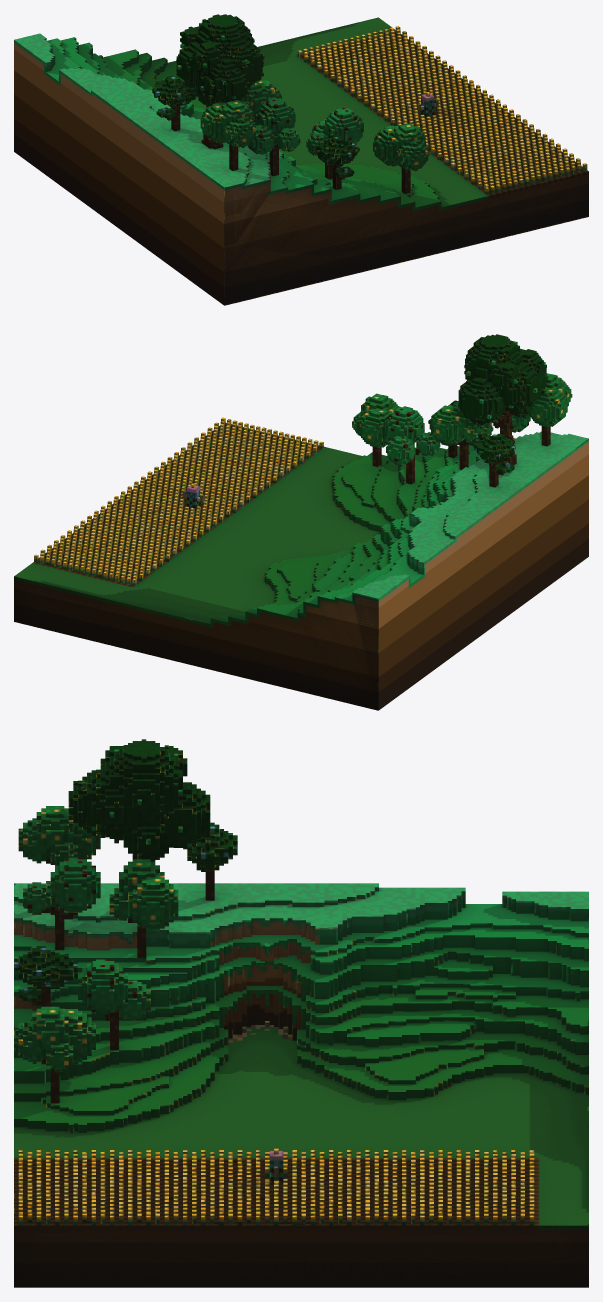
3 renders of one model, top to bottom at view 1: azimuth 30°, elevation 25°; view 2: azimuth 150°, elevation 25°; view 3: azimuth 270°, elevation 25°, orthographic. The views are drawn at different scales.
Parts seen in each view (by area): view 1: _A; view 2: _A; view 3: _A.
Part boxes in pixels (x1,y1,x2,y2): _A: [14, 14, 588, 305]; _A: [14, 334, 588, 710]; _A: [14, 739, 588, 1287].
Size of the model in its own units: 126 by 126 by 79.
1 material, 1 textured.
